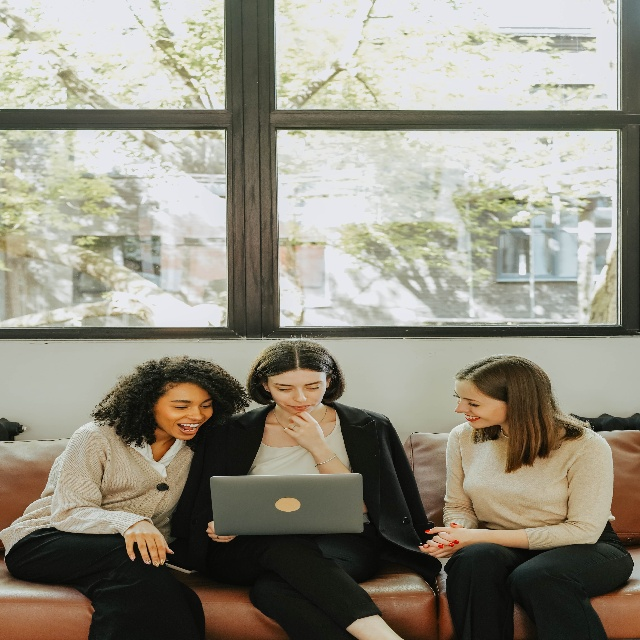Sin_guantes: (124, 520, 173, 567), (283, 412, 325, 456), (418, 527, 471, 559), (423, 522, 462, 550), (206, 520, 237, 544)
